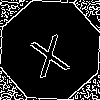X: (25, 25, 71, 79)
